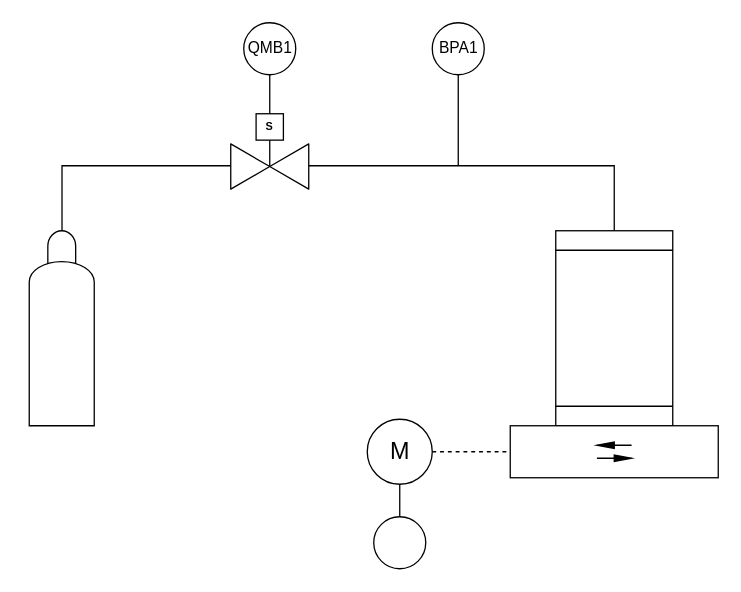
The diagram is 741 pixels wide and 592 high, and some of its shapes have lost their labels. Each missing label, with the centre of its shape:
"CO 2" goes at point (61, 327).
"MAA1" goes at point (399, 542).
